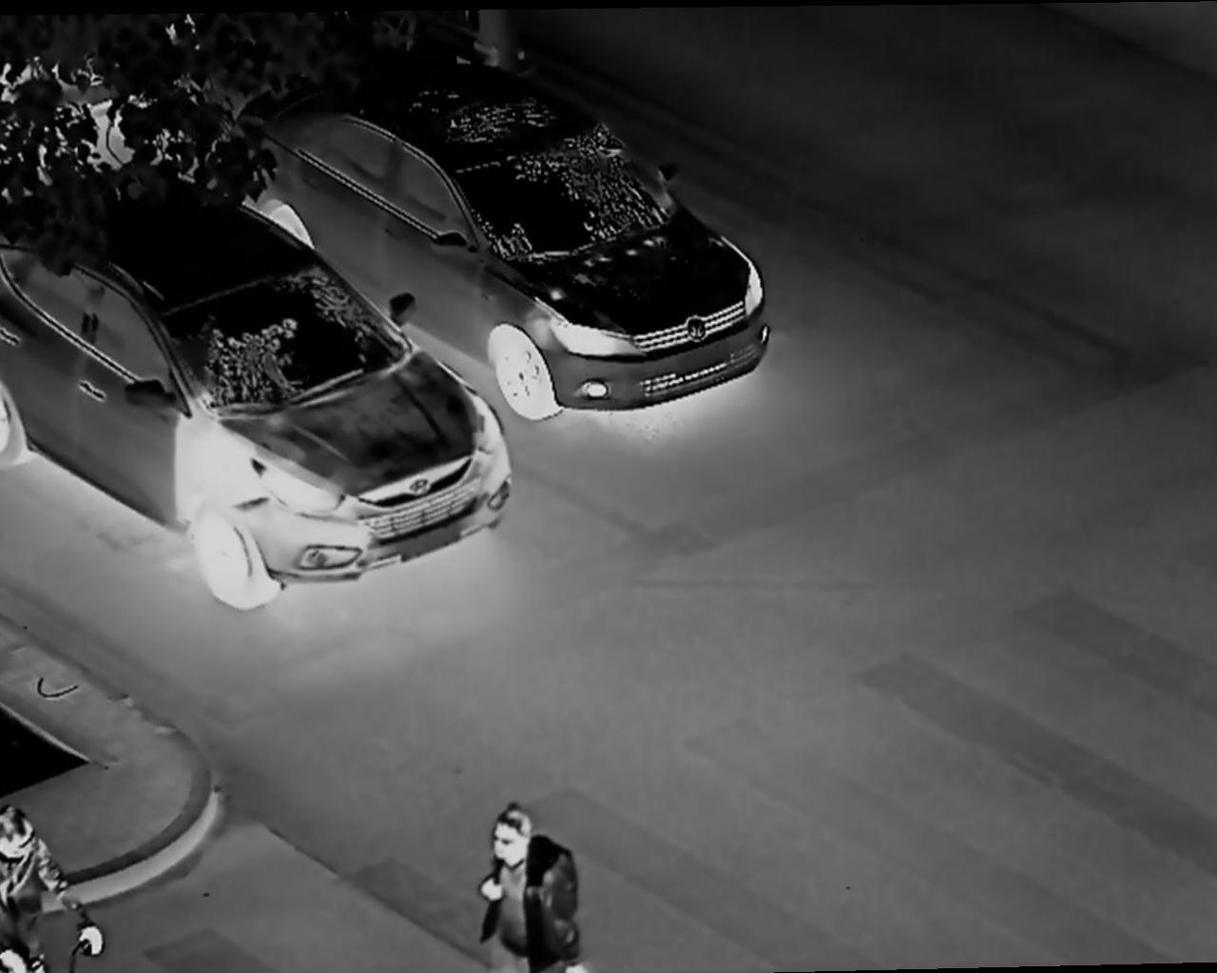person: (473, 804, 590, 973)
